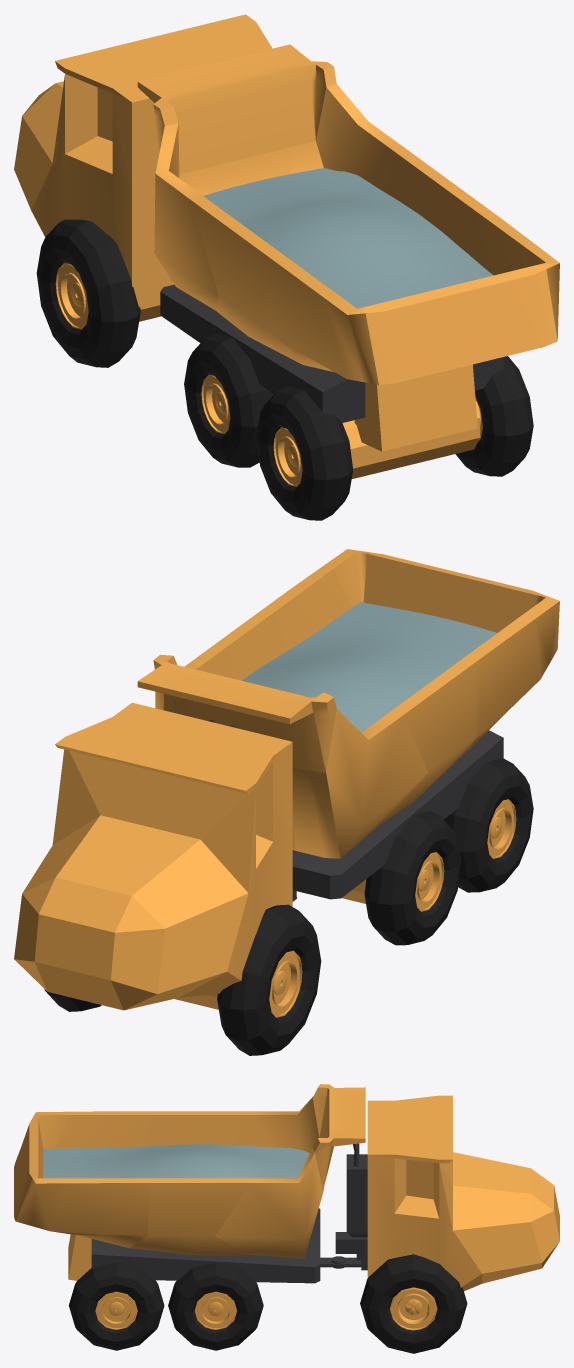
Rendered from Truck.fbx.
3 renders of one model, top to bottom at view 1: azimuth 30°, elevation 25°; view 2: azimuth 150°, elevation 25°; view 3: azimuth 270°, elevation 25°, orthographic. The views are drawn at different scales.
Visible parts, largest first — view 1: Dump_Box, pCube6, Waste, Outer_Tire_Left_Front, Outer_Tire_Left_Back, Dump_Box_Base, pCube4, Outer_Tire_Left_Middle, Outer_Tire_Right_Back, Rear_Wheel_Conector, Inner_Tire_Left_Front, Inner_Tire_Left_Middle (+1 smaller); view 2: pCube6, Dump_Box, Waste, Outer_Tire_Left_Front, Outer_Tire_Left_Middle, Dump_Box_Base, Outer_Tire_Left_Back, Inner_Tire_Left_Front, Inner_Tire_Left_Middle, Inner_Tire_Left_Back; view 3: Dump_Box, pCube6, Waste, Outer_Tire_Right_Front, Dump_Box_Base, Outer_Tire_Right_Back, Outer_Tire_Right_Middle, pCube7, Inner_Tire_Right_Front, Inner_Tire_Right_Back, Inner_Tire_Right_Middle, pCube4 (+2 smaller).
Boxes of the visible parts, left/top/right/bottom form: Dump_Box: left=137, top=44, right=559, bottom=384; pCube6: left=14, top=14, right=272, bottom=307; Waste: left=203, top=168, right=493, bottom=308; Outer_Tire_Left_Front: left=36, top=219, right=140, bottom=367; Outer_Tire_Left_Back: left=256, top=386, right=353, bottom=520; Dump_Box_Base: left=160, top=284, right=503, bottom=422; pCube4: left=354, top=364, right=477, bottom=451; Outer_Tire_Left_Middle: left=184, top=333, right=273, bottom=467; Outer_Tire_Right_Back: left=455, top=356, right=533, bottom=476; Rear_Wheel_Conector: left=342, top=403, right=480, bottom=478; Inner_Tire_Left_Front: left=55, top=262, right=88, bottom=329; Inner_Tire_Left_Middle: left=201, top=374, right=230, bottom=434; pCube6: left=14, top=702, right=292, bottom=1010; Dump_Box: left=137, top=549, right=559, bottom=858; Waste: left=242, top=602, right=497, bottom=732; Outer_Tire_Left_Front: left=217, top=904, right=321, bottom=1055; Outer_Tire_Left_Middle: left=364, top=811, right=461, bottom=945; Dump_Box_Base: left=292, top=730, right=503, bottom=901; Outer_Tire_Left_Back: left=444, top=758, right=533, bottom=892; Inner_Tire_Left_Front: left=269, top=950, right=302, bottom=1017; Inner_Tire_Left_Middle: left=415, top=852, right=444, bottom=911; Inner_Tire_Left_Back: left=487, top=799, right=516, bottom=858; Dump_Box: left=14, top=1084, right=365, bottom=1258; pCube6: left=367, top=1095, right=559, bottom=1291; Waste: left=43, top=1144, right=309, bottom=1178; Outer_Tire_Right_Front: left=360, top=1254, right=467, bottom=1353; Dump_Box_Base: left=91, top=1208, right=320, bottom=1283; Outer_Tire_Right_Back: left=68, top=1262, right=164, bottom=1350; Outer_Tire_Right_Middle: left=168, top=1262, right=263, bottom=1350; pCube7: left=346, top=1161, right=367, bottom=1237; Inner_Tire_Right_Front: left=390, top=1287, right=437, bottom=1330; Inner_Tire_Right_Back: left=95, top=1291, right=137, bottom=1329; Inner_Tire_Right_Middle: left=194, top=1291, right=236, bottom=1329; pCube4: left=68, top=1234, right=91, bottom=1280.
Bounding box in the file's own units: 10 × 12.89 × 30.47.
